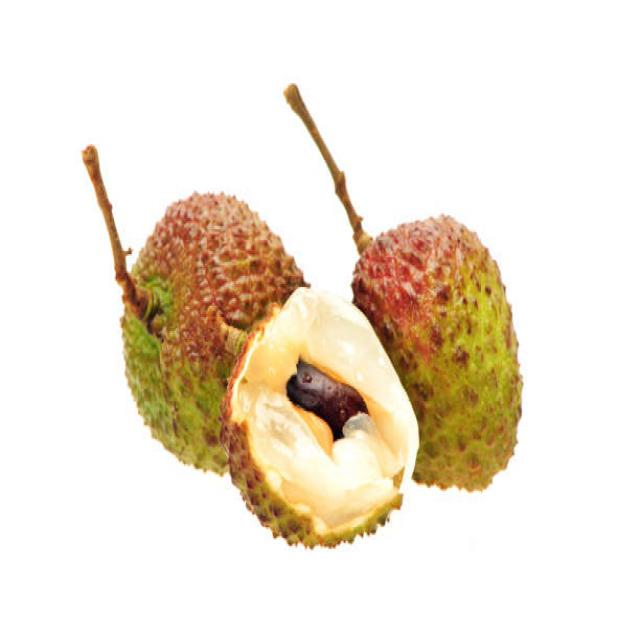lychee: (93, 154, 527, 565)
